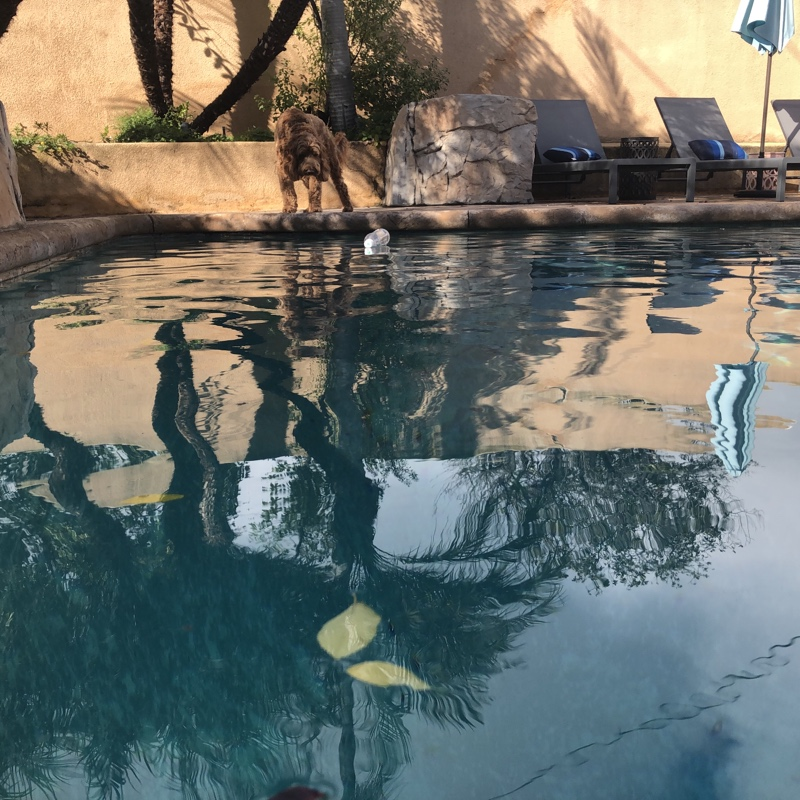Plastic Bottle: (364, 229, 394, 247)
